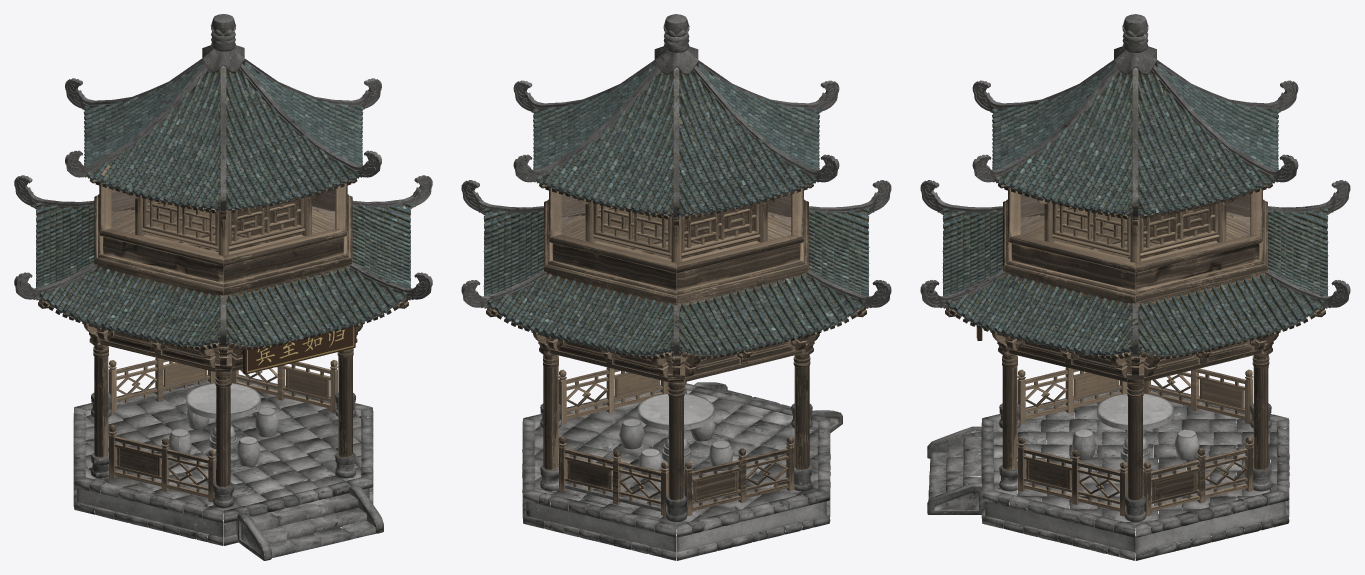
File: pavilion_with_plaque.glb
3 renders of one model, left to right at view 1: azimuth 30°, elevation 25°; view 2: azimuth 150°, elevation 25°; view 3: azimuth 270°, elevation 25°, orthographic. The views are drawn at different scales.
Visible parts, largest first — view 1: Li_Pavilion_e554ccfa, Li_Plaque_Wood_Board; view 2: Li_Pavilion_e554ccfa; view 3: Li_Pavilion_e554ccfa.
Boxes of the visible parts, bbox=[...] form: Li_Pavilion_e554ccfa: bbox=[14, 14, 432, 560]; Li_Plaque_Wood_Board: bbox=[243, 325, 355, 374]; Li_Pavilion_e554ccfa: bbox=[461, 14, 891, 560]; Li_Pavilion_e554ccfa: bbox=[920, 14, 1350, 560].
Size of the model in its own units: 7.13 by 7.53 by 6.22.
13 materials, 10 textured.
